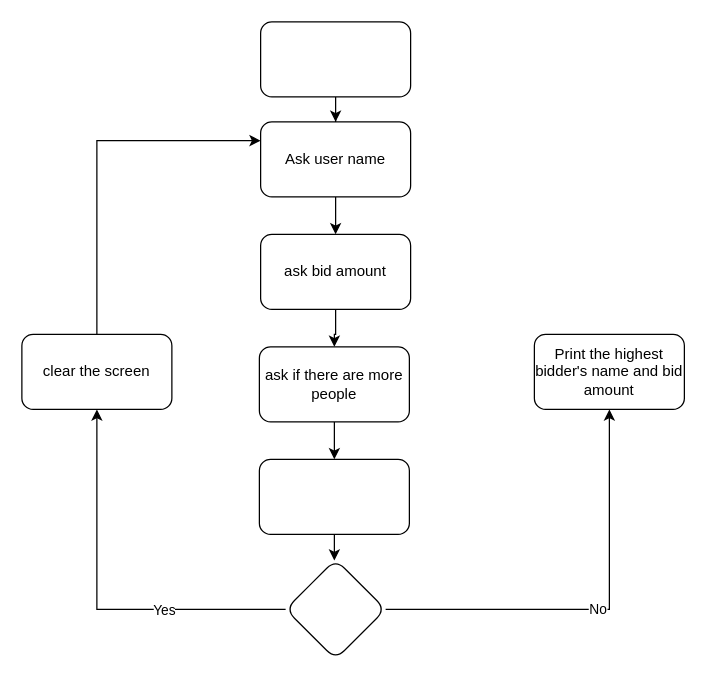
This 706x681 diagram has some shape labels left out. Here are the shapes that lost their labels. From the top down, the box of each, then its label:
(259, 21, 411, 97): draw and import art
(258, 458, 409, 534): Add name and bid to a dictionary
(284, 558, 386, 659): Y/N
